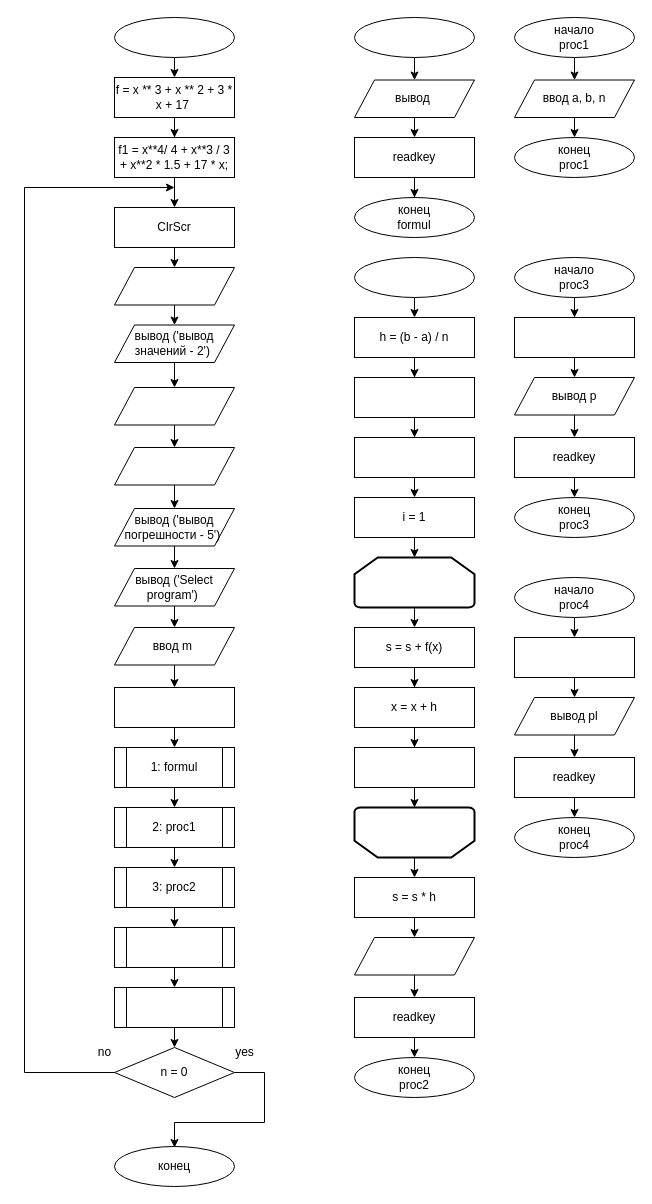
The diagram is 652 pixels wide and 1204 high, and some of its shapes have lost their labels. The shapes that lost their labels are listed below. From the top down, each one's centre as x and y in pixels, then its label:
(174,37): начало
(414,37): начало formul
(174,285): вывод ('Формулировка - 1')
(414,277): начало proc2
(574,337): p = f1(b) - f1(a)
(174,405): вывод ('вывод приблизительного значения - 3')
(414,397): x = a
(174,465): вывод ('вывод точного значения - 4')
(414,457): s = (f(a) + f(b)) / 2;
(414,582): цикл A i > n - 1
(574,657): pl = p - s
(174,707): case m of
(414,767): i = i + 1
(414,832): цикл B
(174,947): 4: proc3
(414,955): вывод s
(174,1007): 5: proc4
